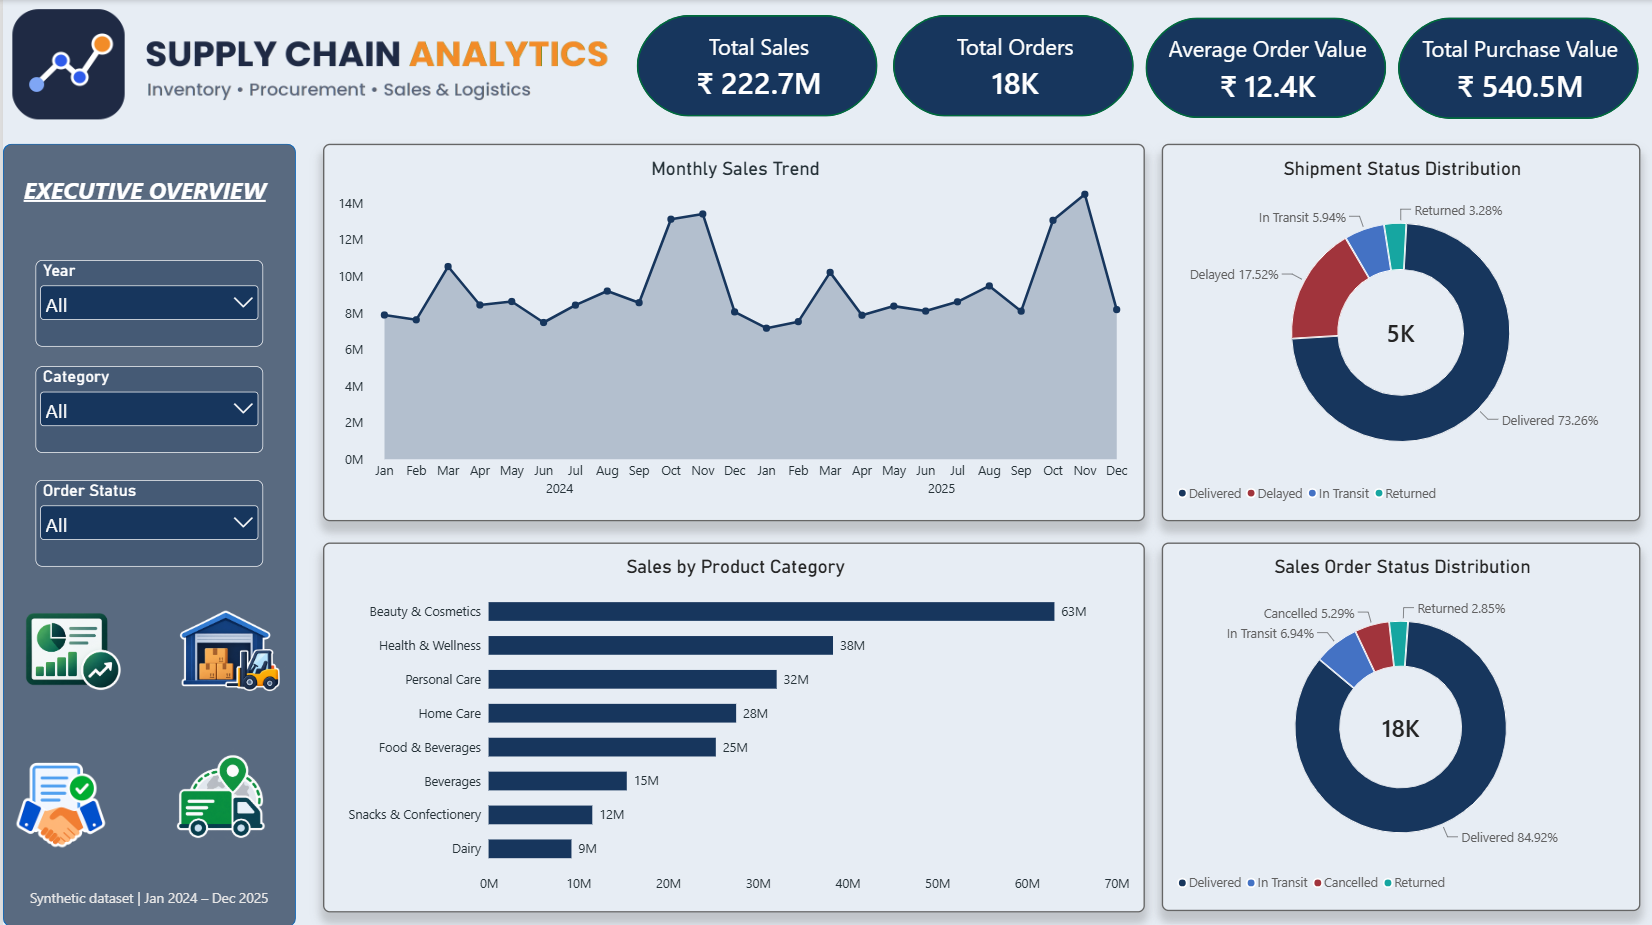

Layout of this report page (visuals, bound fields, positions):
{"tool":"powerbi","page":{"name":"Executive Overview","canvas":[1920,1080],"ordinal":0},"visuals":[{"type":"cardVisual","fields":{"Data":["Sales_orders.Total Sales"]},"box":[736.7,18,281,118.9],"z":0},{"type":"cardVisual","fields":{"Data":["Sales_orders.Total Orders"]},"box":[1035.6,18,281,118.9],"z":1000},{"type":"cardVisual","fields":{"Data":["Purchase_orders.Total Purchase Value"]},"box":[1622.8,19.8,281,118.9],"z":2000},{"type":"cardVisual","fields":{"Data":["Sales_orders.Average Order Value"]},"box":[1329.2,19.8,281,117.1],"z":3000},{"type":"lineChart","title":"Monthly Sales Trend","fields":{"Category":["DateTable.Year","DateTable.Month"],"Y":["Sales_orders.Total Sales"]},"box":[372.8,167.5,956.4,439.5],"z":4000},{"type":"clusteredBarChart","title":"Sales by Product Category","fields":{"Category":["Products.category"],"Y":["Sales_orders.Total Sales"]},"box":[372.8,630.4,956.4,430.5],"z":5000},{"type":"shape","box":[0,167.9,340.6,910.9],"z":6000},{"type":"donutChart","title":"Sales Order Status Distribution","fields":{"Category":["Sales_orders.order_status"],"Y":["CountNonNull(Sales_orders.sales_order_id)"]},"box":[1347.2,630.4,556.5,428.7],"z":7000},{"type":"donutChart","title":"Shipment Status Distribution","fields":{"Category":["Shipments.shipment_status"],"Y":["CountNonNull(Shipments.shipment_id)"]},"box":[1347.2,167.5,556.5,439.5],"z":8000},{"type":"slicer","fields":{"Values":["DateTable.Year"]},"box":[38.4,301.7,264.8,100.9],"z":9000},{"type":"slicer","fields":{"Values":["Sales_orders.order_status"]},"box":[38,557.6,264.8,100.9],"z":10000},{"type":"slicer","fields":{"Values":["Products.category"]},"box":[38.4,425.6,264.8,100.9],"z":11000},{"type":"image","box":[0,689.1,162.1,133.3],"z":12000},{"type":"image","box":[198,687.5,131.5,135.1],"z":13000},{"type":"image","box":[0,860.2,135.1,145.9],"z":14000},{"type":"image","box":[182.2,860.2,135.1,126.1],"z":15000},{"type":"image","box":[0,0,718.6,149.5],"z":16000},{"type":"textbox","box":[0,201.7,329.6,84.7],"z":17000},{"type":"textbox","box":[0,1032.6,340.1,45.3],"z":18000}]}

Visuals, with their boxes in screenshot pixels (x1, y1, x2, y2), scaled from the page's 1920x1080 canvas onto the 1652x925 screenshot:
cardVisual - Sales_orders.Total Sales: [left=634, top=15, right=876, bottom=117]
cardVisual - Sales_orders.Total Orders: [left=891, top=15, right=1133, bottom=117]
cardVisual - Purchase_orders.Total Purchase Value: [left=1396, top=17, right=1638, bottom=119]
cardVisual - Sales_orders.Average Order Value: [left=1144, top=17, right=1385, bottom=117]
"Monthly Sales Trend" lineChart: [left=321, top=143, right=1144, bottom=520]
"Sales by Product Category" clusteredBarChart: [left=321, top=540, right=1144, bottom=909]
shape: [left=0, top=144, right=293, bottom=924]
"Sales Order Status Distribution" donutChart: [left=1159, top=540, right=1638, bottom=907]
"Shipment Status Distribution" donutChart: [left=1159, top=143, right=1638, bottom=520]
slicer - DateTable.Year: [left=33, top=258, right=261, bottom=345]
slicer - Sales_orders.order_status: [left=33, top=478, right=261, bottom=564]
slicer - Products.category: [left=33, top=365, right=261, bottom=451]
image: [left=0, top=590, right=139, bottom=704]
image: [left=170, top=589, right=284, bottom=705]
image: [left=0, top=737, right=116, bottom=862]
image: [left=157, top=737, right=273, bottom=845]
image: [left=0, top=0, right=618, bottom=128]
textbox: [left=0, top=173, right=284, bottom=245]
textbox: [left=0, top=884, right=293, bottom=923]
